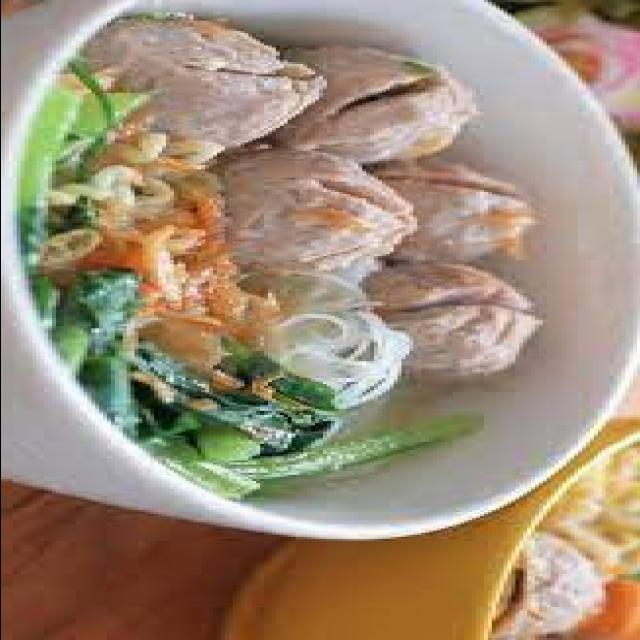bakso: (16, 17, 546, 498)
